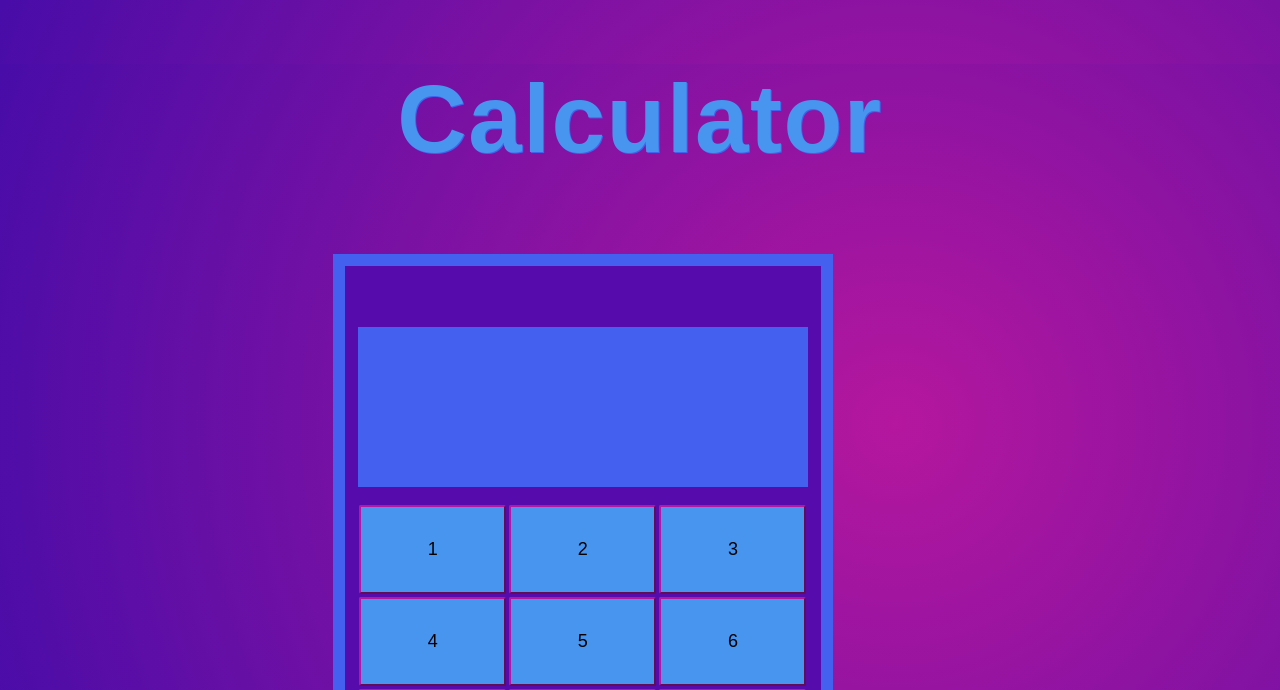
Scenario: Test to see if my Calculator app works › number can be appended to the right of display
The width and height of the screenshot is (1280, 690).
Click the button with id "number-button-1".
click(433, 550)  # box [359, 505, 506, 594]
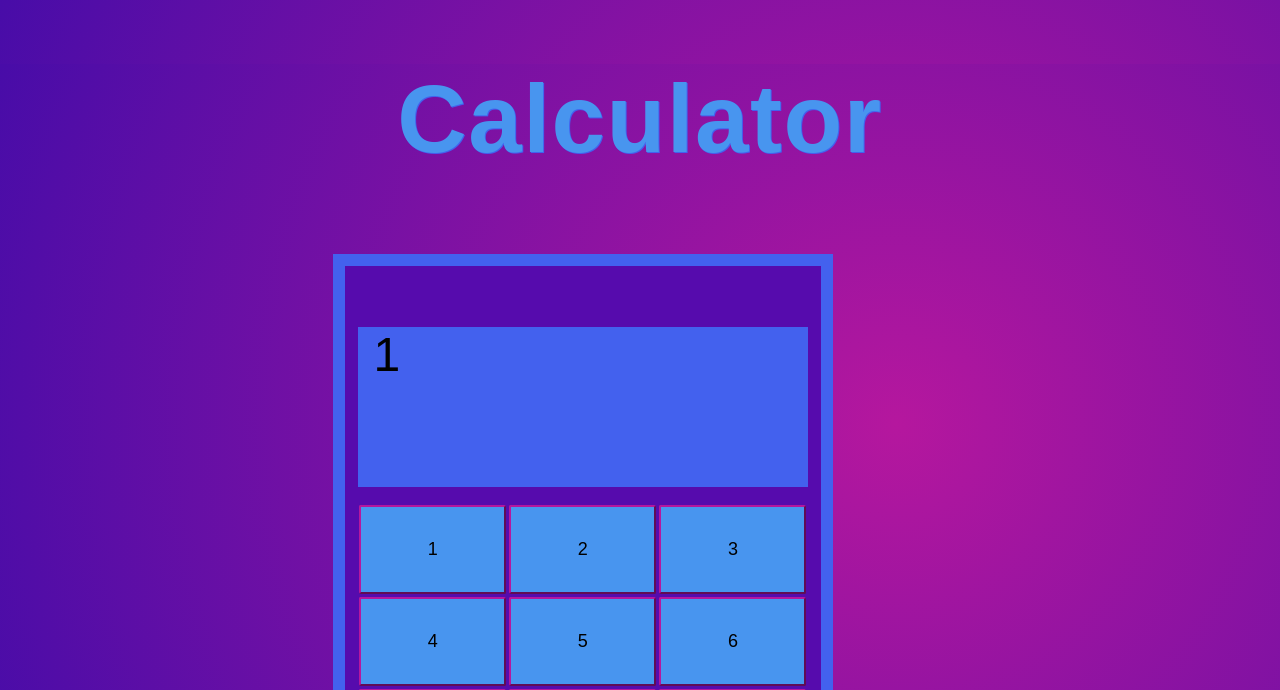
Click the button with id "number-button-1".
click(433, 550)  # box [359, 505, 506, 594]
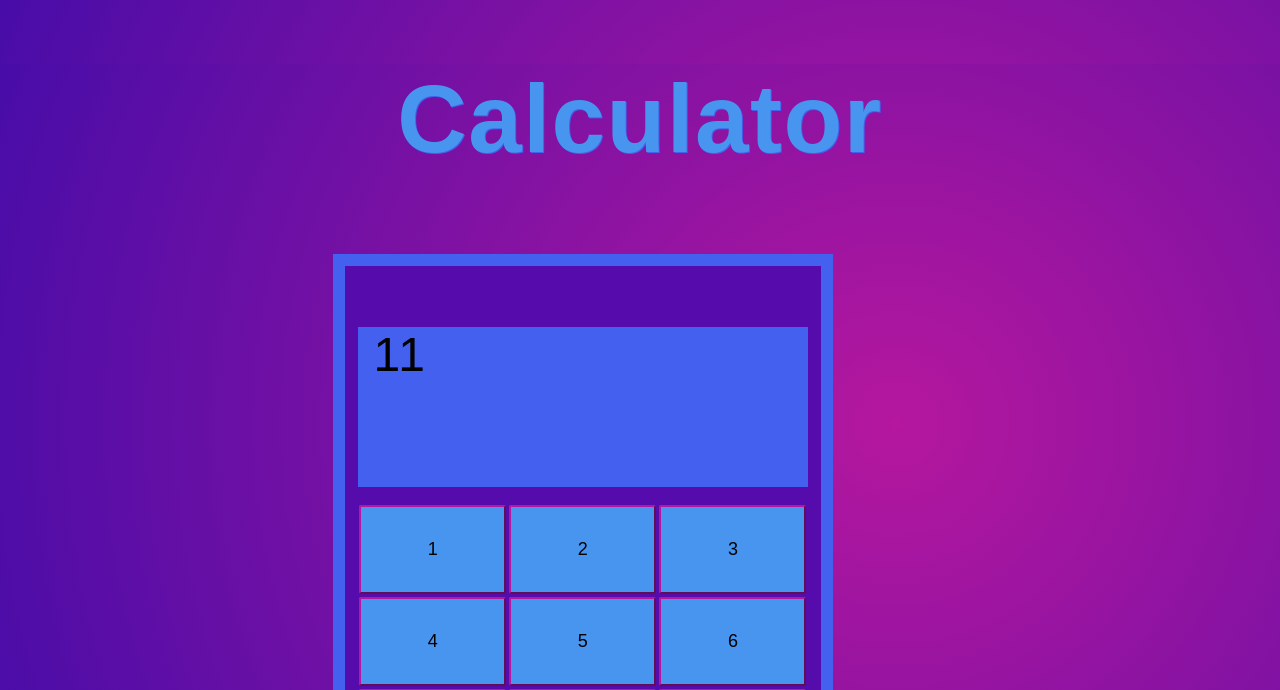
Click the button with id "number-button-1".
click(433, 550)  # box [359, 505, 506, 594]
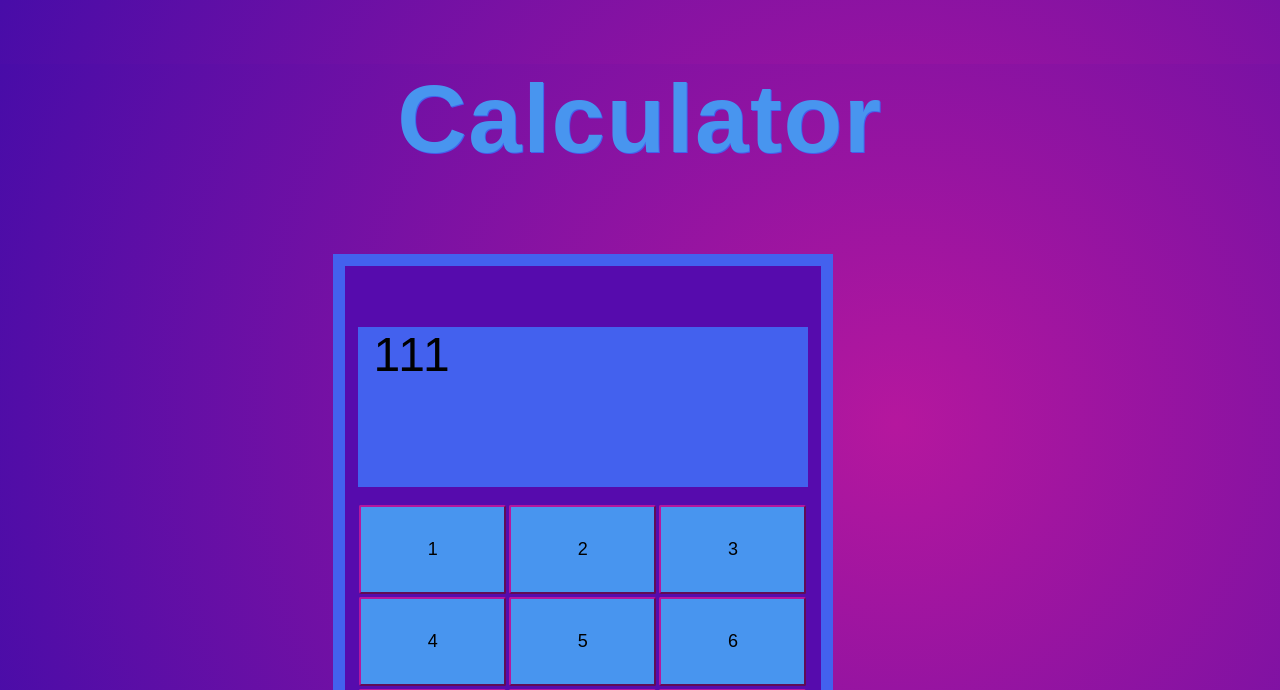
Now the text with id "number-display" reads "111", box [374, 328, 452, 381]
